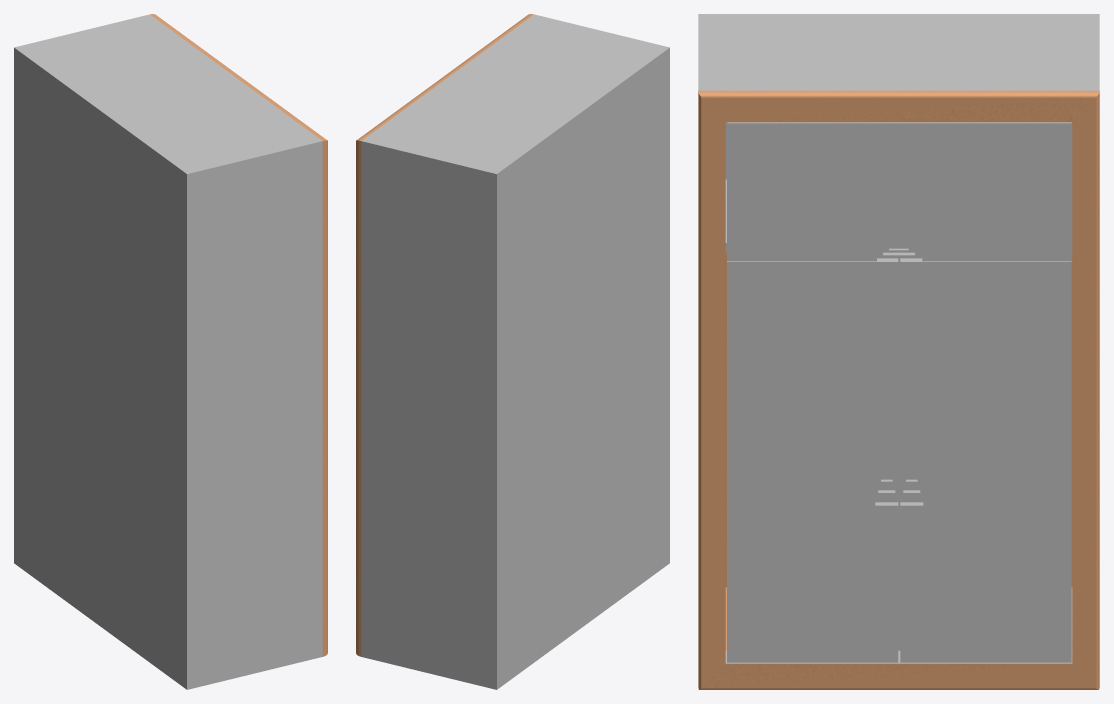
The model's file is szafa1.FBX.
3 views of the same model, side by side, from view 1: azimuth 30°, elevation 25°; view 2: azimuth 150°, elevation 25°; view 3: azimuth 270°, elevation 25° (orthographic). The views are drawn at different scales.
Parts seen in each view (by area): view 1: Box748; view 2: Box748; view 3: Box748, Box750, Box749, Box747.
Part boxes in pixels (x1=…): Box748: x1=14, y1=14, x2=327, y2=689; Box748: x1=356, y1=14, x2=669, y2=689; Box748: x1=698, y1=14, x2=1099, y2=689; Box750: x1=900, y1=258, x2=1071, y2=662; Box749: x1=727, y1=258, x2=898, y2=662; Box747: x1=727, y1=122, x2=1072, y2=261.
Size of the model in its own units: 2.63 by 9.11 by 5.54.
